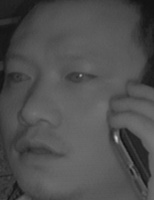eye: (64, 68, 99, 88), (4, 68, 33, 87)
mouth: (12, 133, 61, 164)
